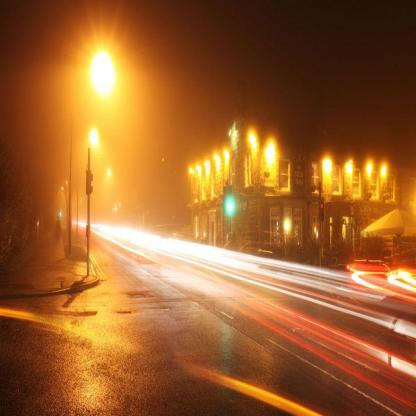other: (180, 124, 286, 196), (80, 36, 128, 158), (316, 140, 394, 198), (346, 244, 412, 298)
